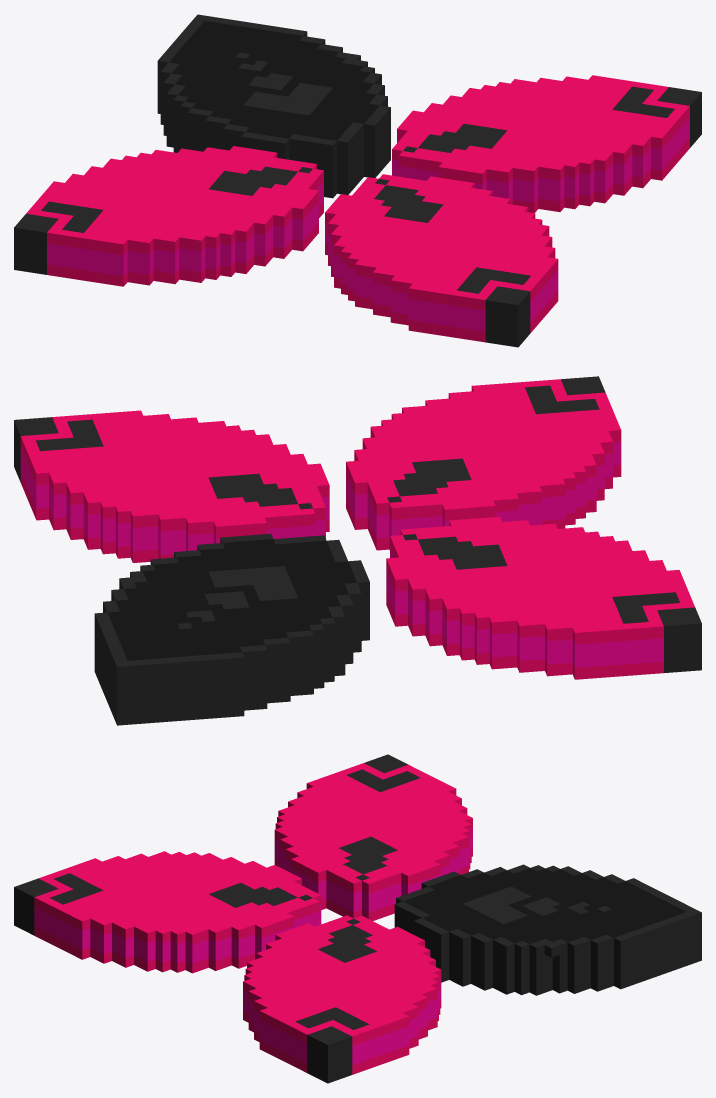
The model's file is TrapAspaPinkLittle.FBX.
3 views of the same model, one above another, from view 1: azimuth 30°, elevation 25°; view 2: azimuth 150°, elevation 25°; view 3: azimuth 270°, elevation 25° (orthographic). The views are drawn at different scales.
Parts seen in each view (by area): view 1: TrampaAspaPinkLittle; view 2: TrampaAspaPinkLittle; view 3: TrampaAspaPinkLittle.
Boxes of the visible parts, <box> form: TrampaAspaPinkLittle: <box>14,14,701,347</box>; TrampaAspaPinkLittle: <box>14,376,701,725</box>; TrampaAspaPinkLittle: <box>14,754,701,1083</box>.
Size of the model in its own units: 0.5553 by 0.0428 by 0.5553.
Materials: 1 (1 with a texture image).
